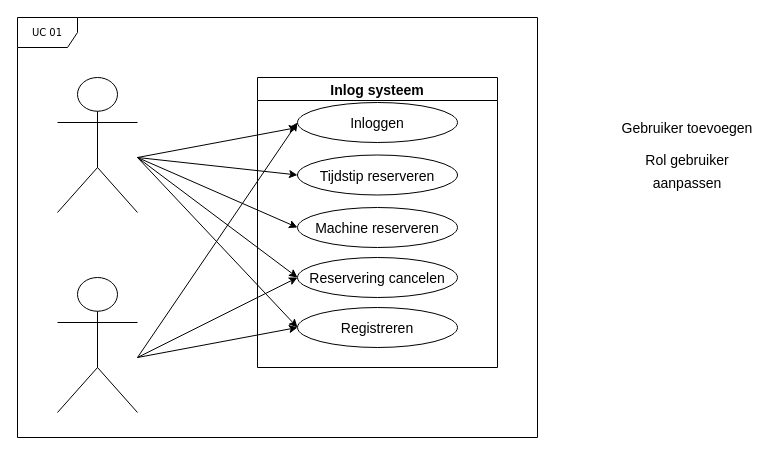
This 775x455 diagram has some shape labels left out. Each missing label, with the centre of its shape:
"Admin" belongs at point 97,344.
"Gebruiker" belongs at point 97,144.
